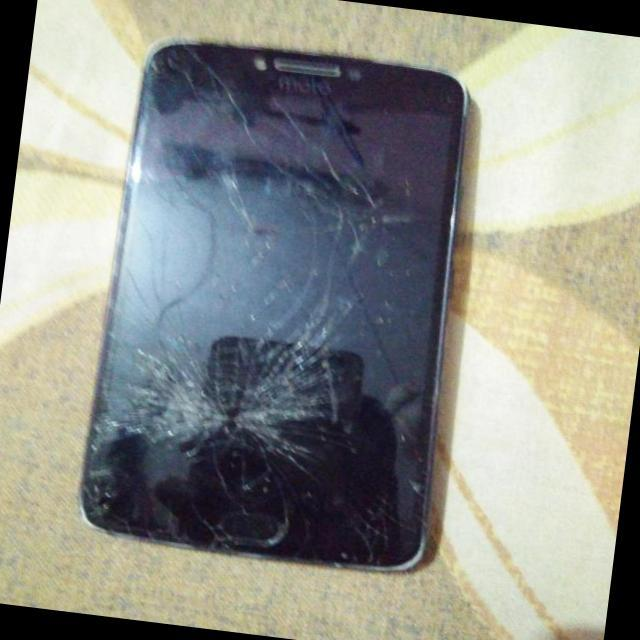Crack: (72, 27, 484, 606)
